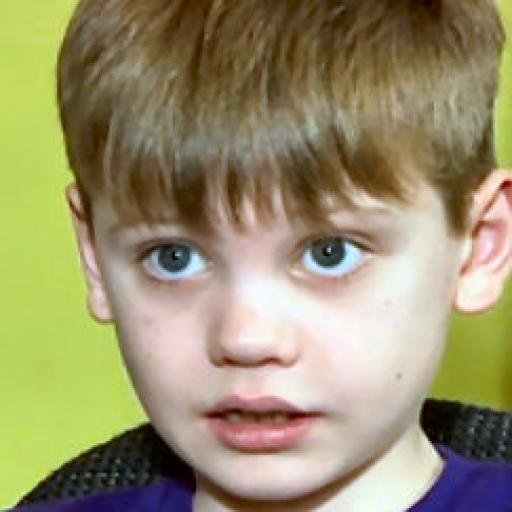Autism: (10, 6, 512, 502)
